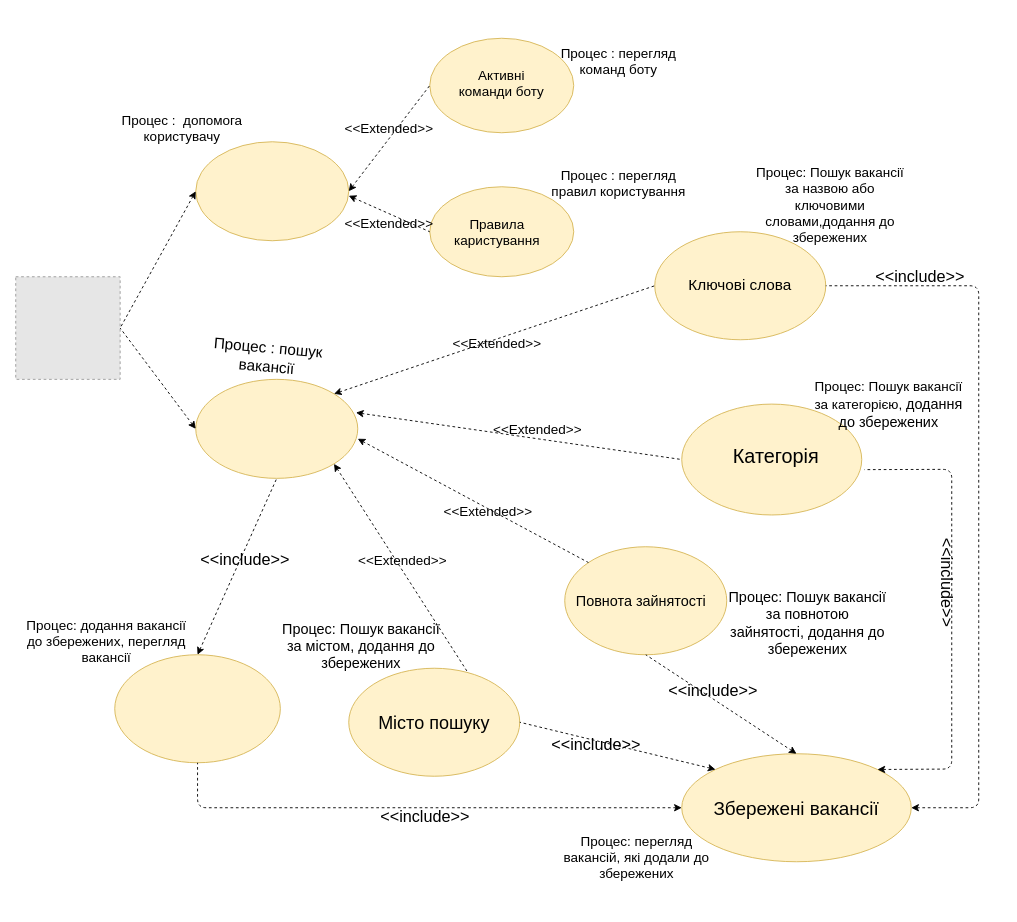
This 1017x922 diagram has some shape labels left out. Grey dashed boxes stand in for pictures. Here are the shapes that lost their labels. From the top down, the box of each, then its label:
(195, 141, 349, 241): Допомога з ботом
(195, 378, 358, 478): Вакансія
(114, 654, 280, 763): Робота з вакансією
